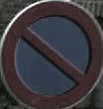No waiting: (3, 2, 98, 103)
